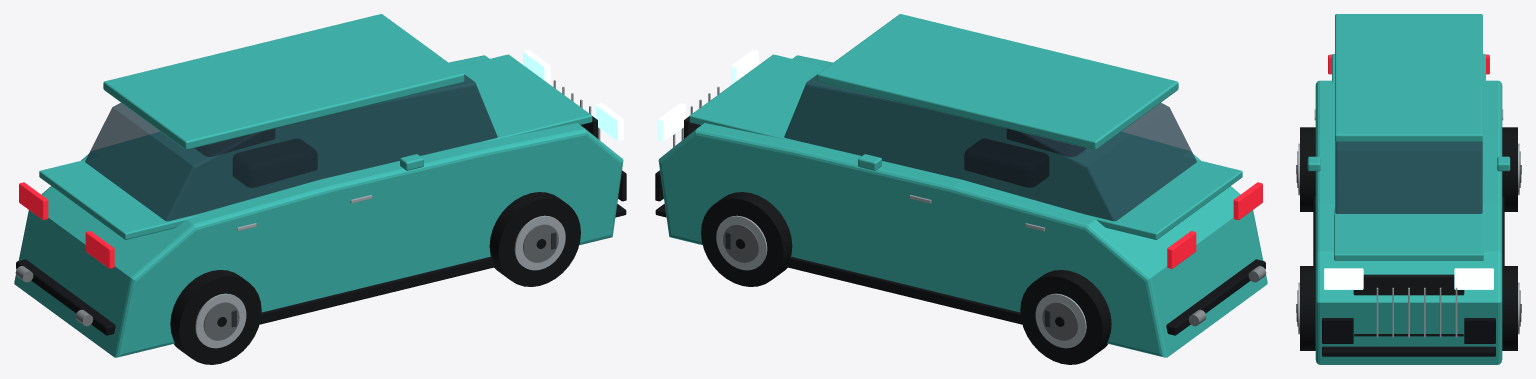
File: chevy_express_cargo.glb
The picture shows the model from 3 angles, left to right: view 1: azimuth 30°, elevation 25°; view 2: azimuth 150°, elevation 25°; view 3: azimuth 270°, elevation 25°; orthographic projection. The views are drawn at different scales.
Visible parts, largest first — view 1: sculpted_body, glasshouse, roof, hood_center, rear_deck, rear_right_wheel_tire, front_right_wheel_tire, side_skirt_1, seat_1, rear_diffuser, rear_right_wheel_rim, front_right_wheel_rim (+7 smaller); view 2: sculpted_body, glasshouse, roof, hood_center, rear_deck, rear_left_wheel_tire, front_left_wheel_tire, side_skirt_-1, seat_-1, rear_diffuser, rear_left_wheel_rim, front_left_wheel_rim (+7 smaller); view 3: sculpted_body, roof, glasshouse, hood_center, front_grille, front_splitter, front_left_wheel_tire, front_right_wheel_tire, rear_left_wheel_tire, rear_right_wheel_tire, headlight_right, headlight_left (+7 smaller).
Part boxes in pixels (x1,y1,x2,y2): sculpted_body: (14,55,623,357); glasshouse: (85,74,497,221); roof: (103,14,464,149); hood_center: (415,54,592,142); rear_deck: (39,153,198,239); rear_right_wheel_tire: (170,270,261,364); front_right_wheel_tire: (489,192,580,286); side_skirt_1: (259,256,495,324); seat_1: (233,139,316,187); rear_diffuser: (16,259,115,335); rear_right_wheel_rim: (195,293,246,348); front_right_wheel_rim: (514,215,565,270); sculpted_body: (658,55,1267,357); glasshouse: (784,74,1196,221); roof: (817,14,1178,149); hood_center: (689,54,866,142); rear_deck: (1083,153,1242,239); rear_left_wheel_tire: (1020,270,1111,364); front_left_wheel_tire: (701,192,792,286); side_skirt_-1: (786,256,1022,324); seat_-1: (965,139,1048,187); rear_diffuser: (1166,259,1265,335); rear_left_wheel_rim: (1035,293,1086,348); front_left_wheel_rim: (716,215,767,270); sculpted_body: (1315,80,1502,364); roof: (1335,14,1482,142); glasshouse: (1335,142,1482,213); hood_center: (1334,206,1483,260); front_grille: (1353,274,1464,336); front_splitter: (1322,346,1495,356); front_left_wheel_tire: (1502,266,1517,350); front_right_wheel_tire: (1300,266,1315,350); rear_left_wheel_tire: (1502,127,1517,211); rear_right_wheel_tire: (1300,127,1315,211); headlight_right: (1324,268,1363,289); headlight_left: (1454,268,1493,289).
Bounding box in the file's own units: 5.56 × 2.1 × 2.28.
